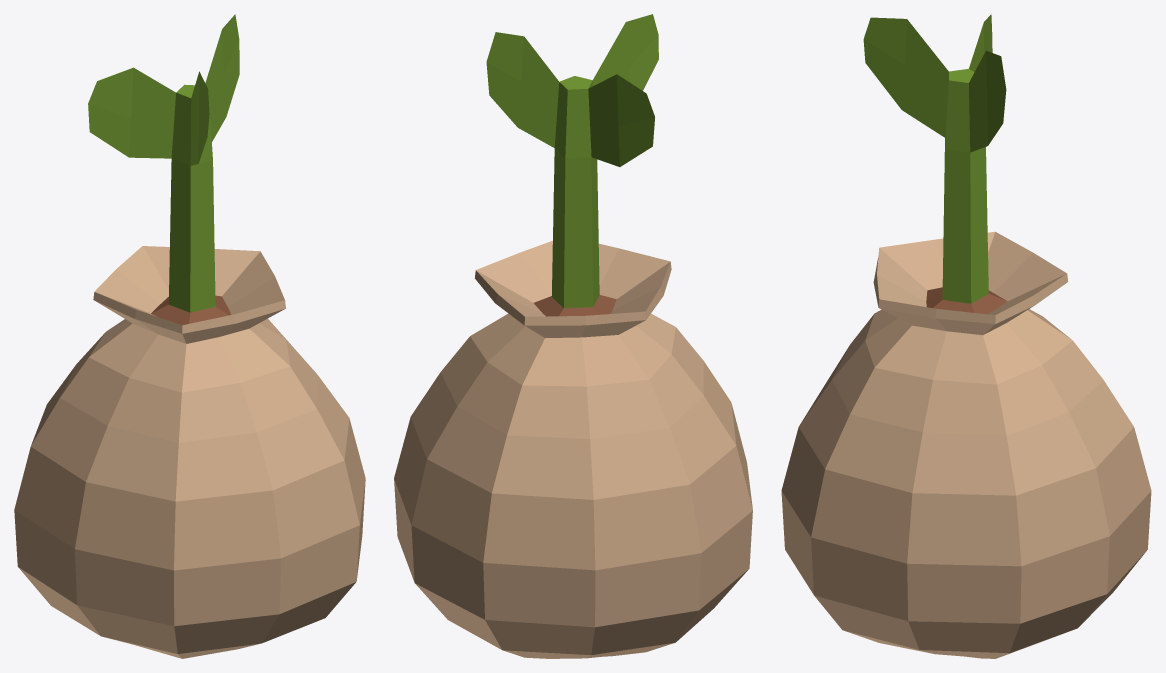
The model's file is sprout.fbx.
3 views of the same model, side by side, from view 1: azimuth 30°, elevation 25°; view 2: azimuth 150°, elevation 25°; view 3: azimuth 270°, elevation 25° (orthographic). The views are drawn at different scales.
Visible parts, largest first — view 1: sprout; view 2: sprout; view 3: sprout.
Part boxes in pixels (x1,y1,x2,y2): sprout: [14, 14, 365, 658]; sprout: [394, 14, 752, 658]; sprout: [781, 14, 1151, 658].
Size of the model in its own units: 60.06 by 113 by 62.09.
